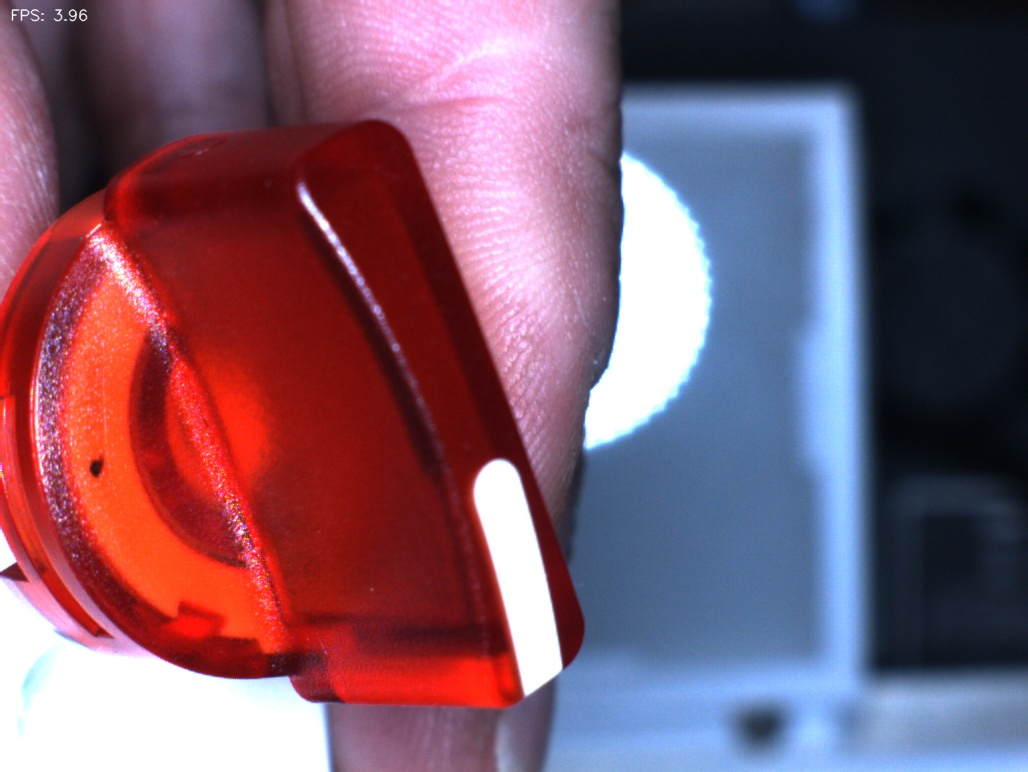PointNoir: (54, 424, 131, 510)
